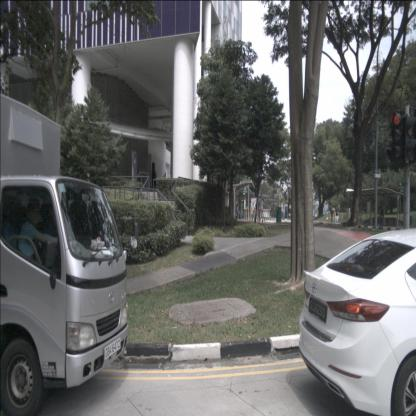human-pedestrian-adult: (258, 194, 264, 223), (236, 203, 241, 219), (380, 207, 384, 227), (335, 207, 339, 224), (330, 207, 334, 223)
vehicle-car: (298, 227, 415, 415)
vehicle-truck: (0, 92, 129, 416)
